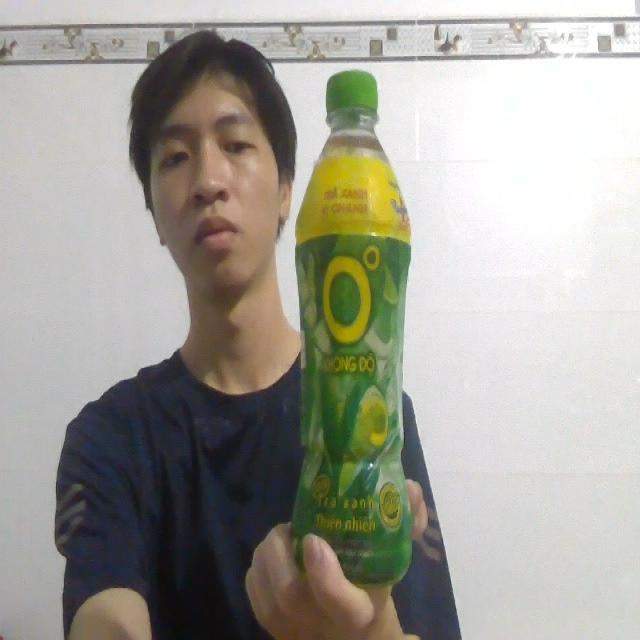tra xanh khong do: (274, 72, 438, 609)
